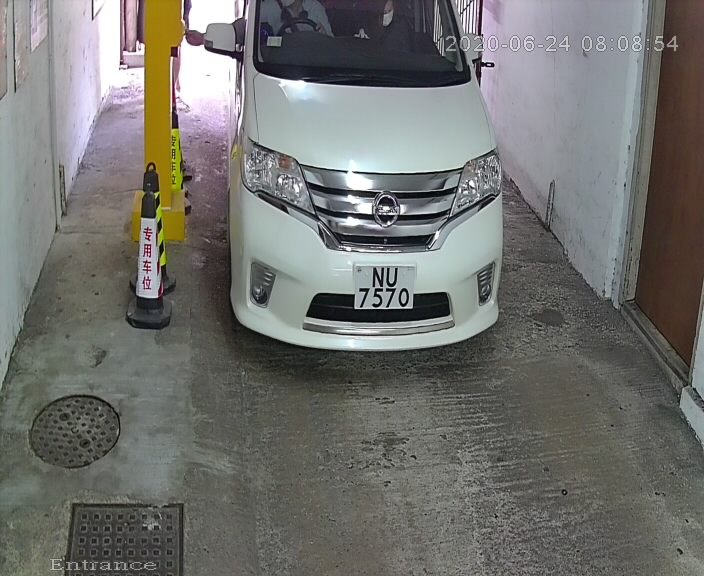privatecar: (185, 1, 524, 364)
